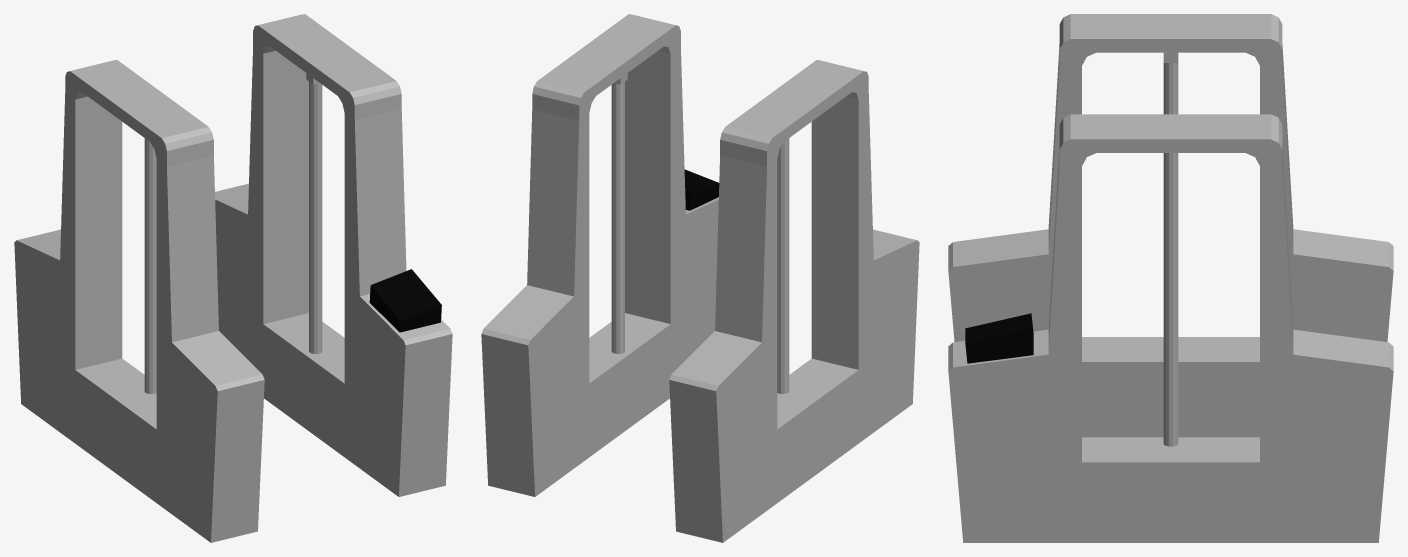
The model's file is nyc_subway_fare_gate_5_twoway_open_entrance.obj.
3 views of the same model, side by side, from view 1: azimuth 30°, elevation 25°; view 2: azimuth 150°, elevation 25°; view 3: azimuth 270°, elevation 25° (orthographic). The views are drawn at different scales.
Visible parts, largest first — view 1: left, cube, right; view 2: left, cube, right; view 3: left, right, cube.
Boxes of the visible parts, bbox=[...] form: left: bbox=[14, 46, 452, 542]; cube: bbox=[65, 14, 441, 332]; right: bbox=[144, 82, 344, 456]; left: bbox=[481, 46, 919, 542]; cube: bbox=[532, 14, 868, 210]; right: bbox=[589, 82, 789, 456]; left: bbox=[948, 44, 1393, 542]; right: bbox=[1082, 63, 1259, 542]; cube: bbox=[965, 14, 1282, 363].
Bounding box in the file's own units: 1.25 × 1.88 × 1.88.
Materials: 1 (1 with a texture image).
